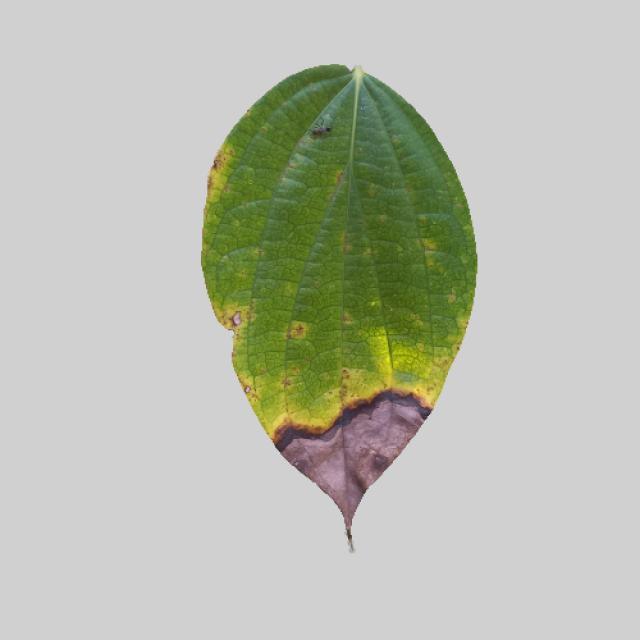leaf-blight: (193, 71, 484, 549)
